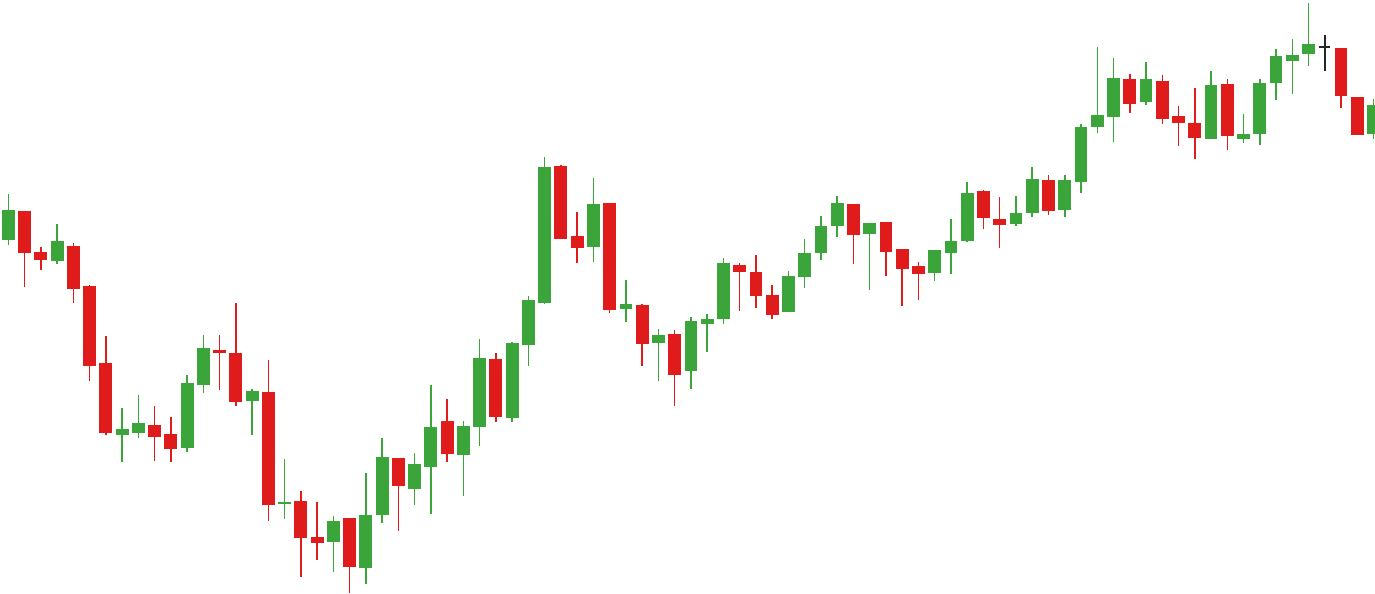sell: (1090, 6, 1330, 100)
